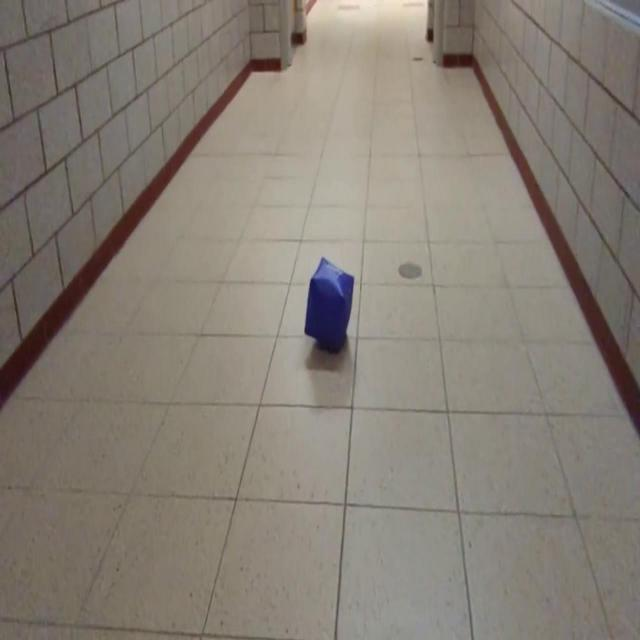frc_cube: (302, 255, 354, 354)
